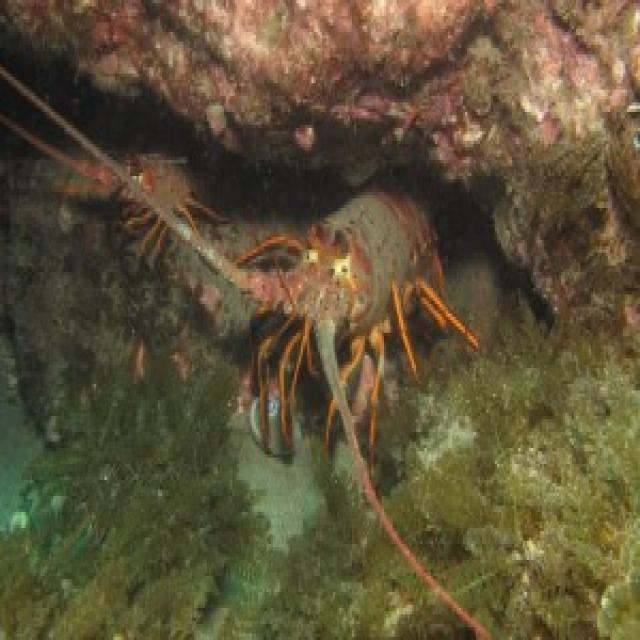lobsters: (61, 24, 640, 640)
